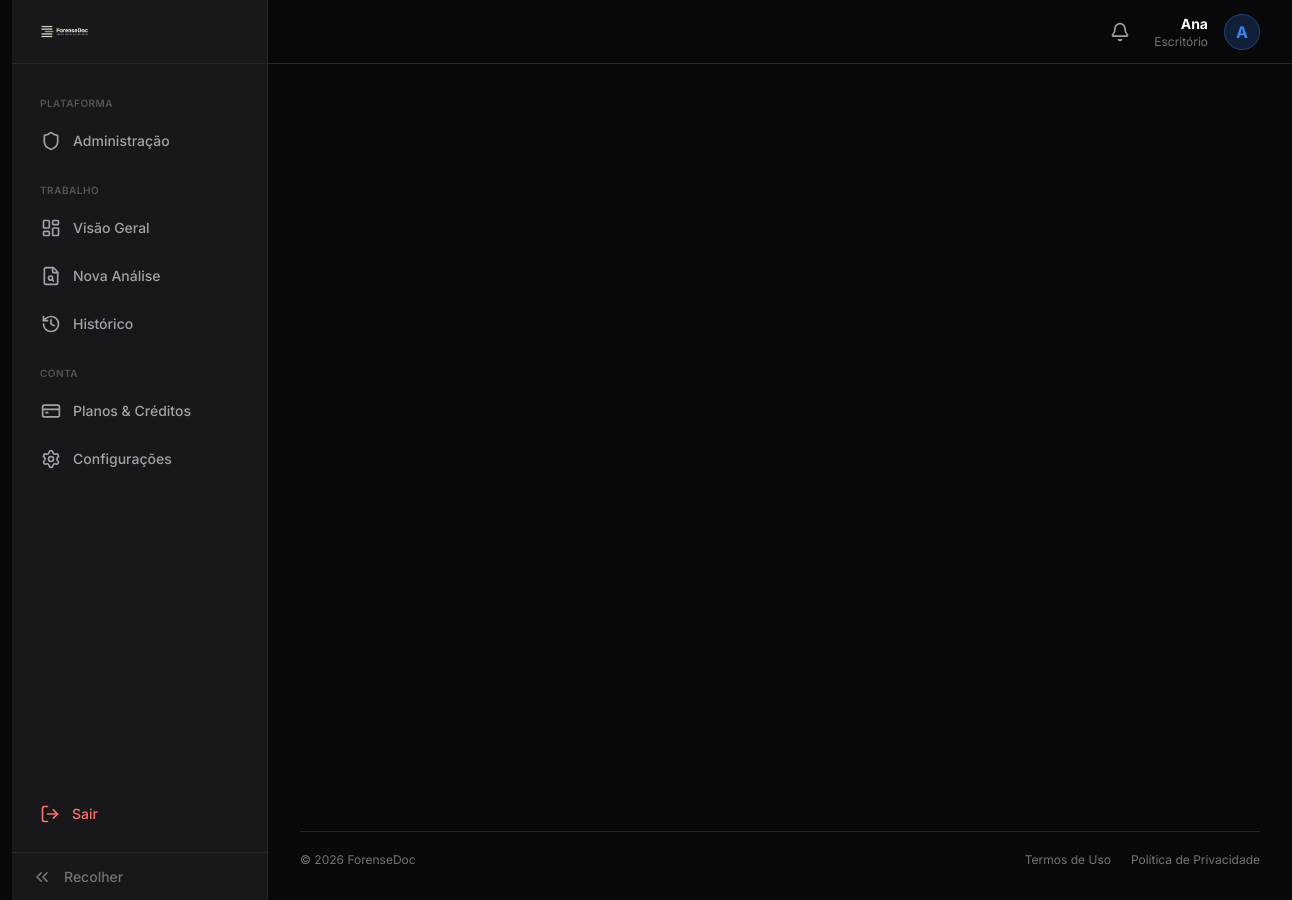
Menu lateral do dashboard › recolher o menu guarda a preferência para a próxima sessão
This screenshot has width=1292, height=900.
Click the button named "Recolher menu" at (140, 876), box [12,852,267,899]
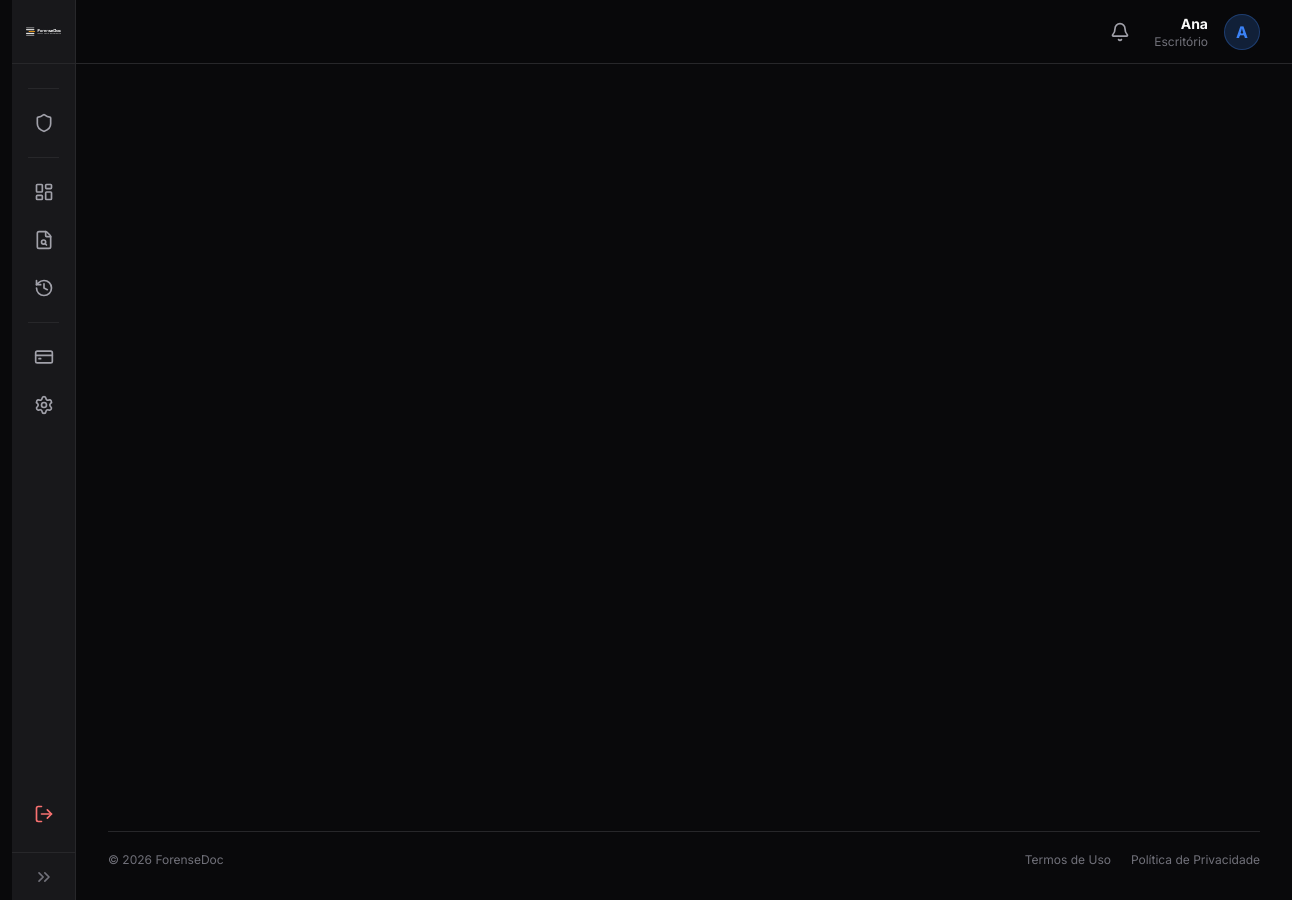
Result: the button named "Expandir menu" is shown at [12,852,75,899]
